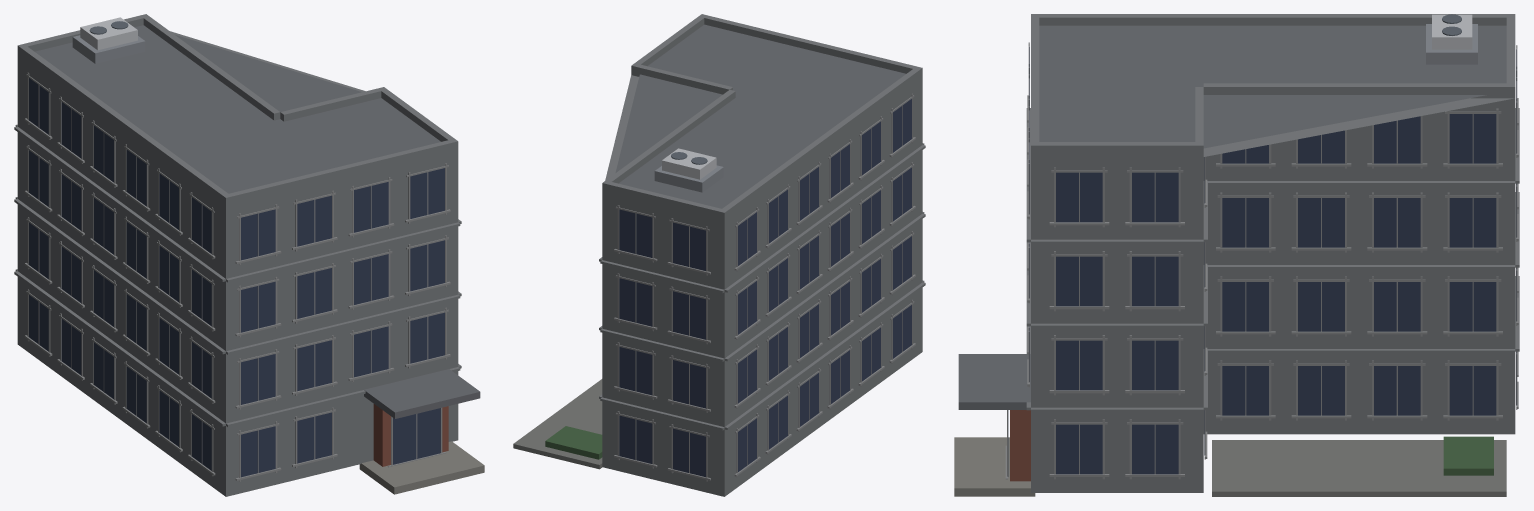
The model's file is civic_corner_04x04_lvl1.glb.
The picture shows the model from 3 angles, left to right: view 1: azimuth 30°, elevation 25°; view 2: azimuth 150°, elevation 25°; view 3: azimuth 270°, elevation 25°; orthographic projection. The views are drawn at different scales.
Visible parts, largest first — view 1: civic_corner_04x04; view 2: civic_corner_04x04; view 3: civic_corner_04x04.
Part boxes in pixels (left/top/right/bottom): civic_corner_04x04: left=14, top=14, right=484, bottom=496; civic_corner_04x04: left=513, top=14, right=925, bottom=496; civic_corner_04x04: left=954, top=14, right=1519, bottom=496.
Bounding box in the file's own units: 0.5669 × 0.743 × 1.
